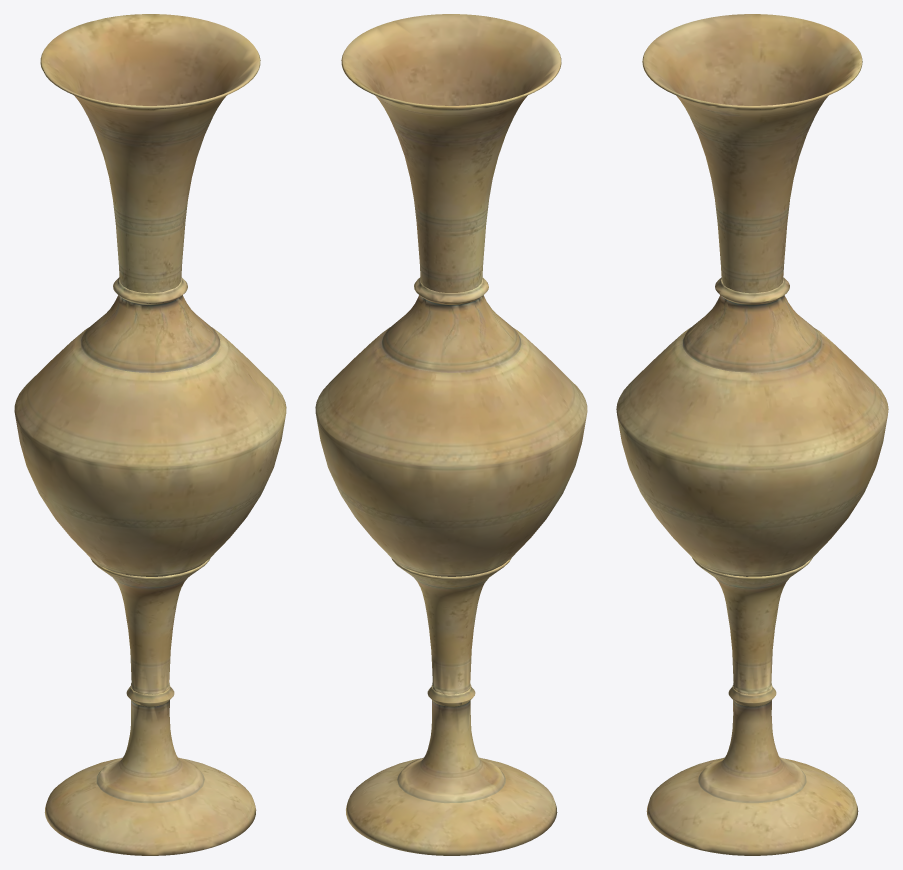
The model's file is brass_vase.glb.
The picture shows the model from 3 angles, left to right: view 1: azimuth 30°, elevation 25°; view 2: azimuth 150°, elevation 25°; view 3: azimuth 270°, elevation 25°; orthographic projection.
Parts seen in each view (by area): view 1: brass_vase_01; view 2: brass_vase_01; view 3: brass_vase_01.
Part boxes in pixels (left/top/right/bottom): brass_vase_01: left=14, top=14, right=286, bottom=855; brass_vase_01: left=315, top=14, right=587, bottom=855; brass_vase_01: left=616, top=14, right=888, bottom=855.
Bounding box in the file's own units: 0.2272 × 0.6925 × 0.2272.
1 material, 1 textured.
